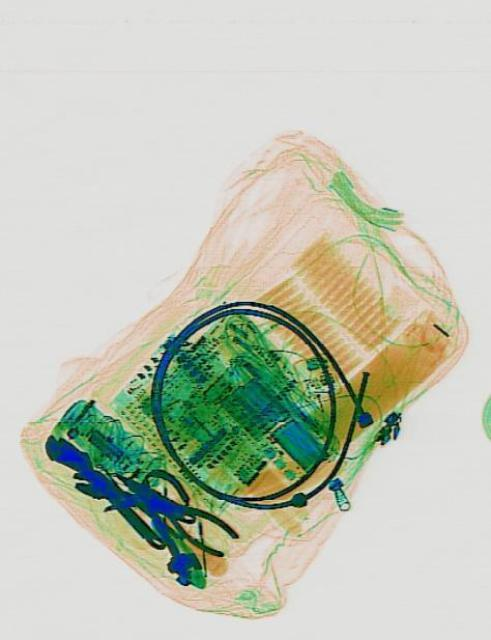Pliers: (107, 456, 239, 564)
Wrench: (37, 422, 170, 558), (66, 462, 195, 530)
